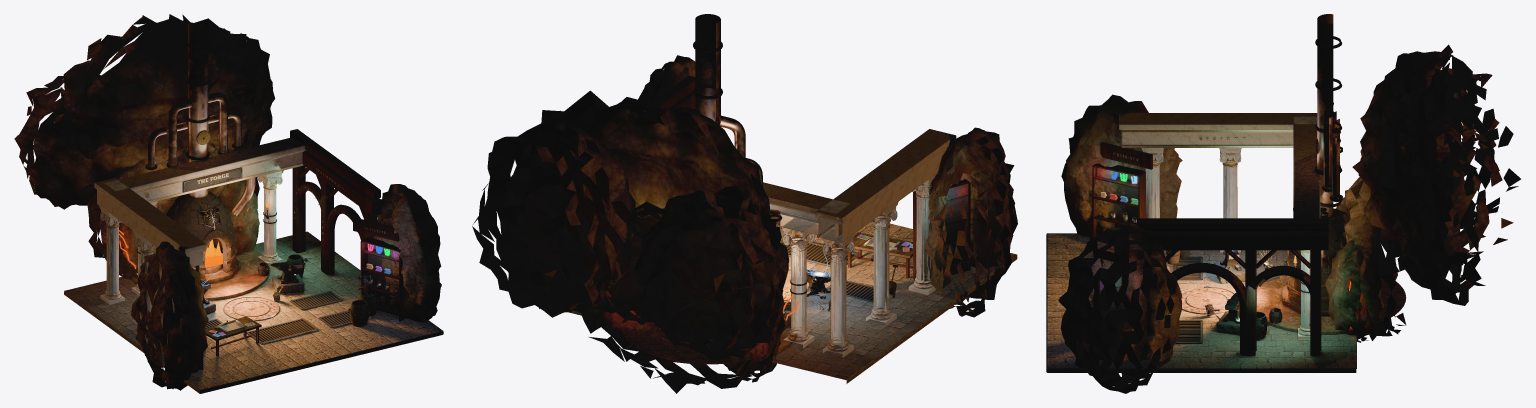
File: forge_hall.glb
3 views of the same model, side by side, from view 1: azimuth 30°, elevation 25°; view 2: azimuth 150°, elevation 25°; view 3: azimuth 270°, elevation 25° (orthographic). The views are drawn at different scales.
Parts seen in each view (by area): view 1: BK_Center, BK_Floor, BK_Right, BK_Left, BK_Live; view 2: BK_Center, BK_Left, BK_Floor, BK_Live, BK_Right; view 3: BK_Center, BK_Right, BK_Left, BK_Floor, BK_Live.
Part boxes in pixels (<box>): BK_Center: <box>14,14,305,343</box>; BK_Floor: <box>64,231,443,393</box>; BK_Right: <box>232,129,441,326</box>; BK_Left: <box>94,164,261,390</box>; BK_Live: <box>135,19,398,314</box>; BK_Center: <box>472,40,873,393</box>; BK_Left: <box>770,127,1017,357</box>; BK_Floor: <box>539,222,1017,383</box>; BK_Live: <box>676,14,834,313</box>; BK_Right: <box>638,55,695,108</box>; BK_Center: <box>1205,36,1520,342</box>; BK_Right: <box>1058,195,1342,393</box>; BK_Left: <box>1061,94,1342,265</box>; BK_Floor: <box>1046,233,1406,372</box>; BK_Live: <box>1110,14,1340,335</box>.
Bounding box in the file's own units: 14.65 × 13.39 × 18.33.
18 materials, 5 textured.
